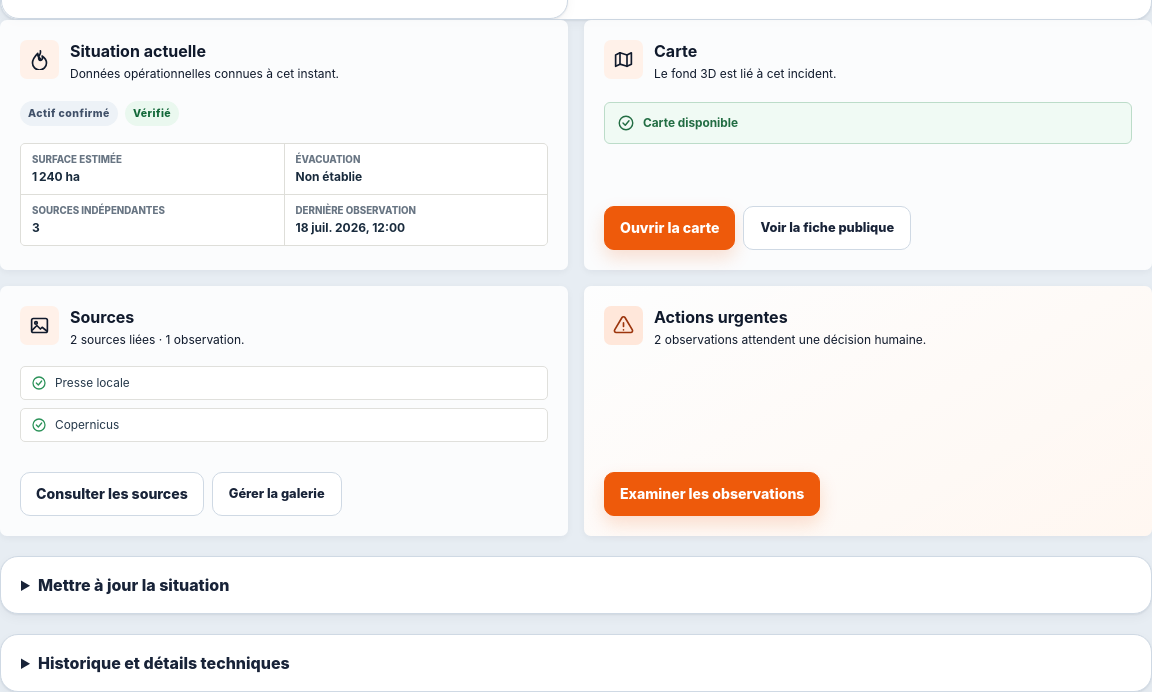
fiche incident principale › laisse les champs de mise à jour repliés tant que l’opérateur ne les demande pas
(page scrolled)
Expected: the heading "Situation actuelle" is shown, [70,41,206,61]
Expected: the field labelled "Surface estimée (ha)" is not shown
Click the heading "Mettre à jour la situation".
click(134, 585)  # box [38,575,229,595]
(page scrolled)
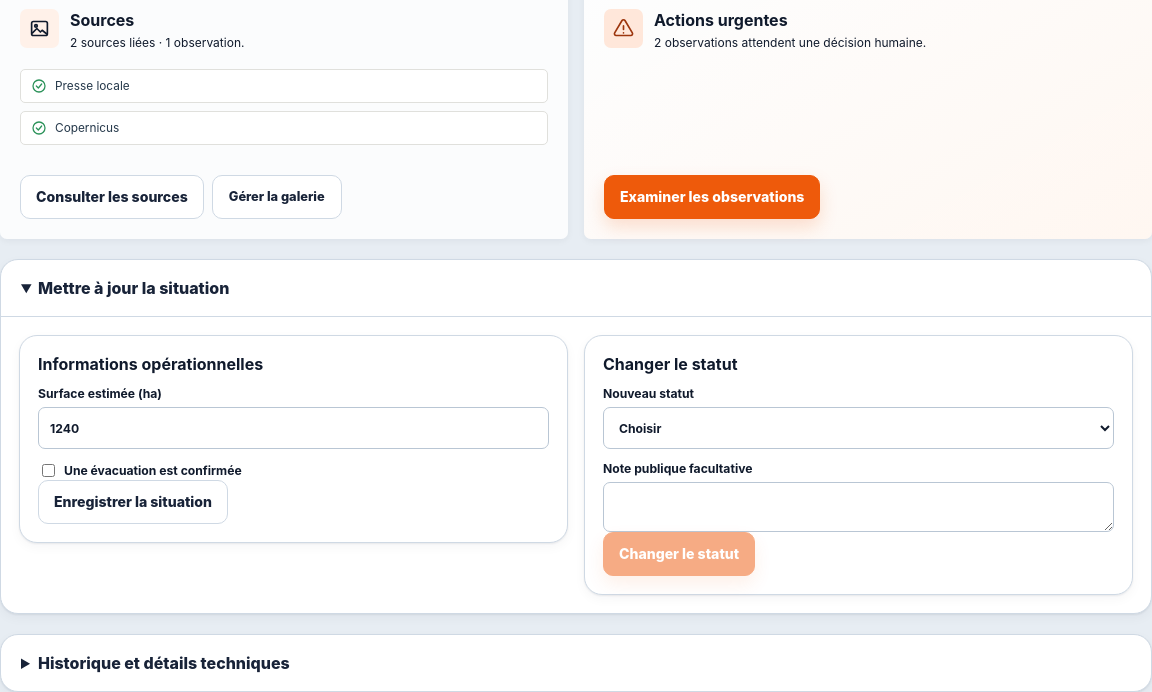
Now the number field labelled "Surface estimée (ha)" is shown, box [38,407,549,449]
Now the dropdown labelled "Nouveau statut" is shown, box [603,407,1114,449]
